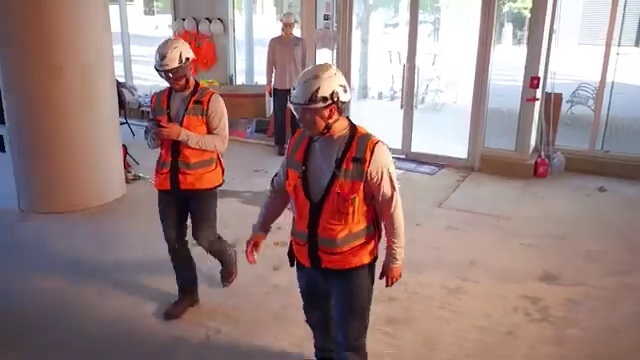helmet: (286, 56, 352, 108), (153, 39, 194, 65)
jacket: (285, 123, 382, 277), (153, 81, 237, 185)
